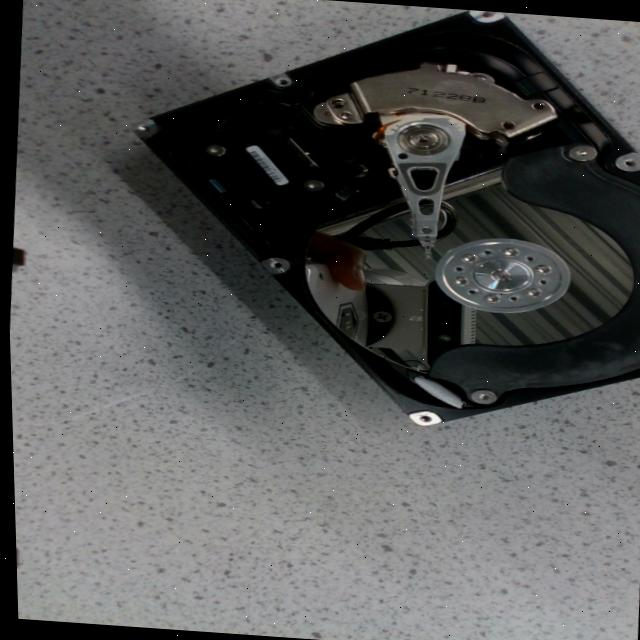actuator arm: (381, 114, 463, 255)
actuator axis: (399, 125, 446, 153)
case: (138, 10, 640, 425)
magnet: (349, 63, 554, 137)
pcb connector: (203, 127, 326, 207)
platter: (304, 155, 630, 373)
platter holder: (433, 238, 566, 312)
platter protector: (426, 147, 640, 395)
screw: (561, 143, 595, 161), (467, 388, 494, 403), (204, 143, 223, 156), (301, 179, 321, 191), (532, 264, 549, 273), (460, 253, 475, 262), (524, 288, 538, 297), (451, 277, 466, 285), (503, 248, 517, 256), (485, 294, 497, 301)
